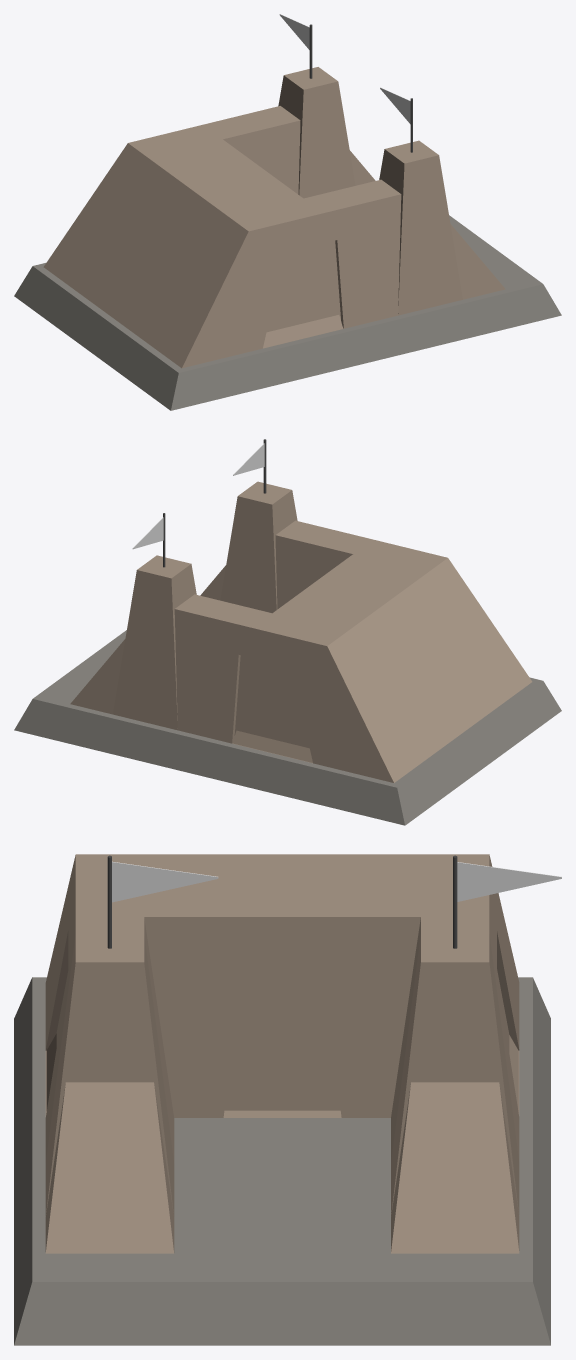
Rendered from temple (2).fbx.
The picture shows the model from 3 angles, top to bottom: view 1: azimuth 30°, elevation 25°; view 2: azimuth 150°, elevation 25°; view 3: azimuth 270°, elevation 25°; orthographic projection. The views are drawn at different scales.
Parts seen in each view (by area): view 1: Cube.002, Cube.004, Cube.005, Cube.003, Cube.001, Cube; view 2: Cube.003, Cube.004, Cube.005, Cube, Cube.002, Cube.001; view 3: Cube.005, Cube.004, Cube.002, Cube.003, Cube.001, Cube, Cube.007, Cube.008.
Boxes of the visible parts, x1,y1,x2,y2 form: Cube.002: (146, 179, 505, 368); Cube.004: (58, 139, 343, 367); Cube.005: (14, 215, 561, 410); Cube.003: (43, 106, 375, 294); Cube.001: (379, 140, 462, 315); Cube: (278, 67, 355, 198); Cube.003: (70, 594, 431, 782); Cube.004: (232, 553, 531, 779); Cube.005: (14, 630, 561, 825); Cube: (113, 555, 196, 730); Cube.002: (200, 520, 532, 696); Cube.001: (220, 481, 297, 613); Cube.005: (14, 977, 550, 1345); Cube.004: (46, 854, 518, 1117); Cube.002: (45, 854, 174, 1253); Cube.003: (391, 854, 519, 1253); Cube.001: (45, 933, 174, 1217); Cube: (391, 933, 519, 1215); Cube.007: (112, 861, 218, 902); Cube.008: (457, 862, 561, 901).
Size of the model in its own units: 1441 by 796 by 1021.
